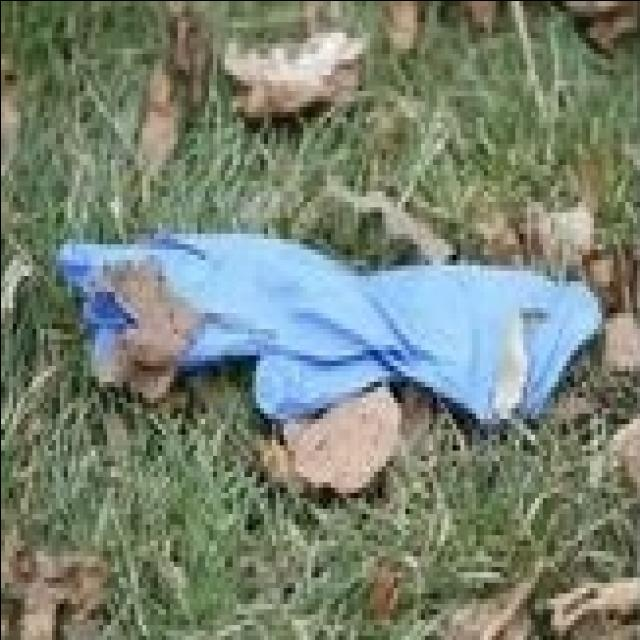b3: (54, 202, 602, 478)
